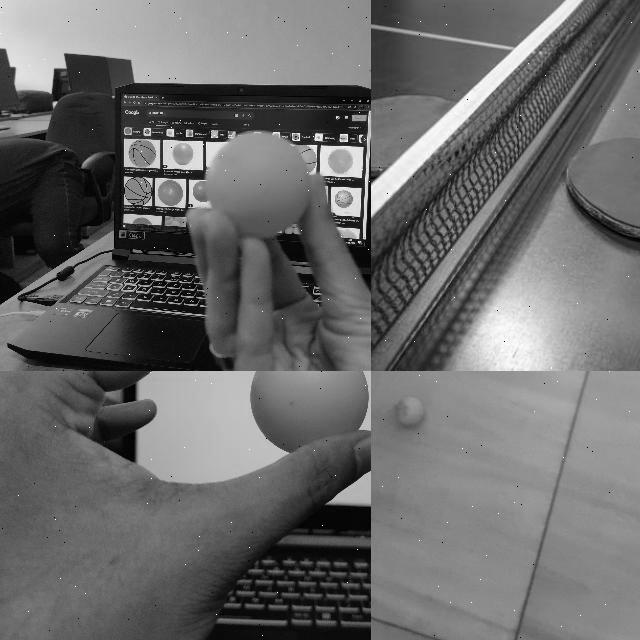ping-pong-ball: (204, 130, 308, 236), (249, 371, 368, 452), (394, 398, 422, 426)
